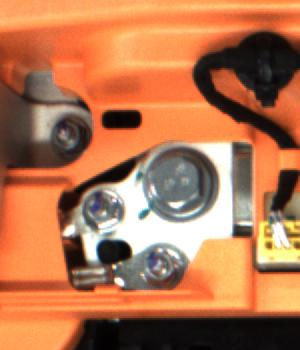nut_b: (139, 147, 221, 221)
screw_s: (77, 188, 127, 228), (137, 243, 180, 285), (50, 119, 90, 158)
